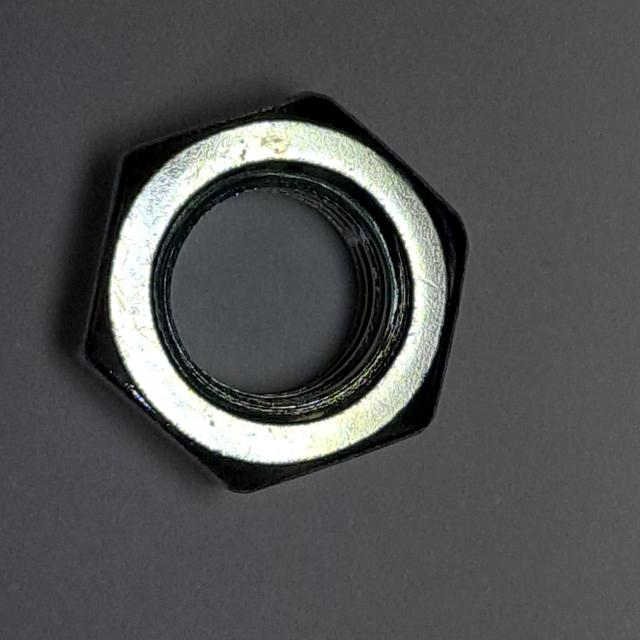Excellent: (53, 79, 485, 506)
